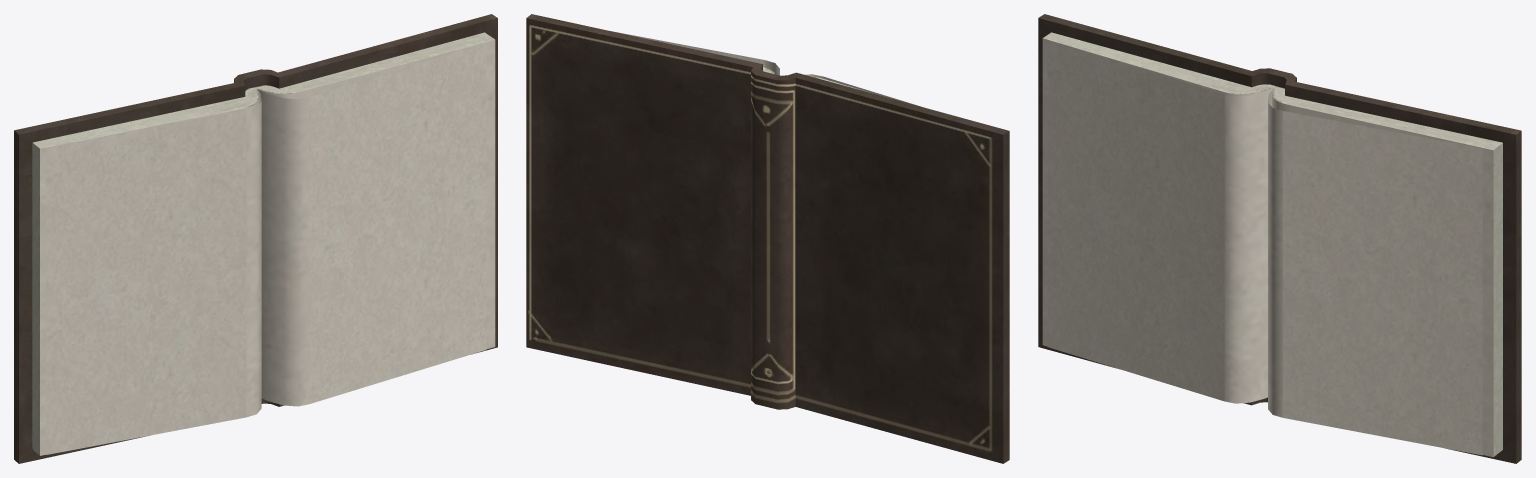
Rendered from bookopen.glb.
3 views of the same model, side by side, from view 1: azimuth 30°, elevation 25°; view 2: azimuth 150°, elevation 25°; view 3: azimuth 330°, elevation 25° (orthographic).
Visible parts, largest first — view 1: BookOpened; view 2: BookOpened; view 3: BookOpened.
Boxes of the visible parts, x1,y1,x2,y2 form: BookOpened: (14,14,497,463); BookOpened: (526,14,1009,463); BookOpened: (1038,14,1521,463).
Bounding box in the file's own units: 6.36 × 4.18 × 0.6688.
Materials: 1 (1 with a texture image).
